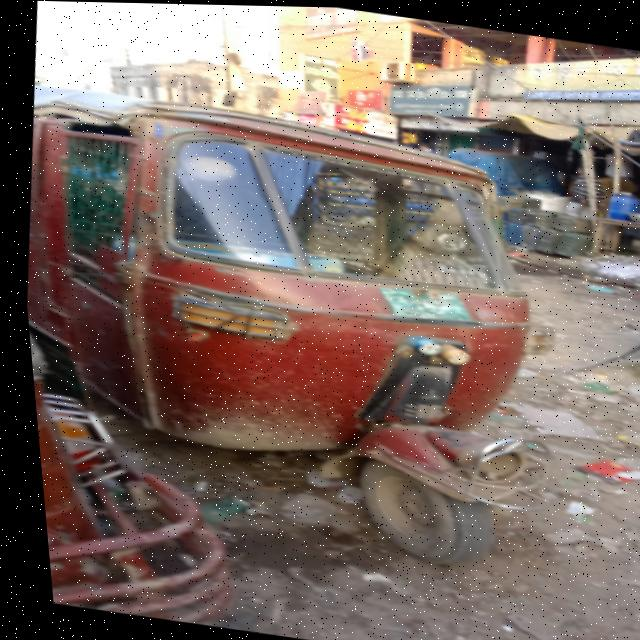cng: (4, 57, 609, 597)
